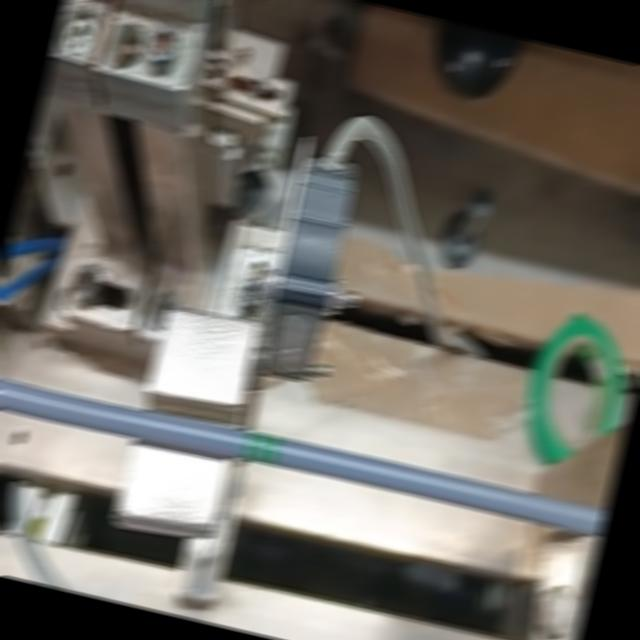green: (238, 428, 284, 469)
